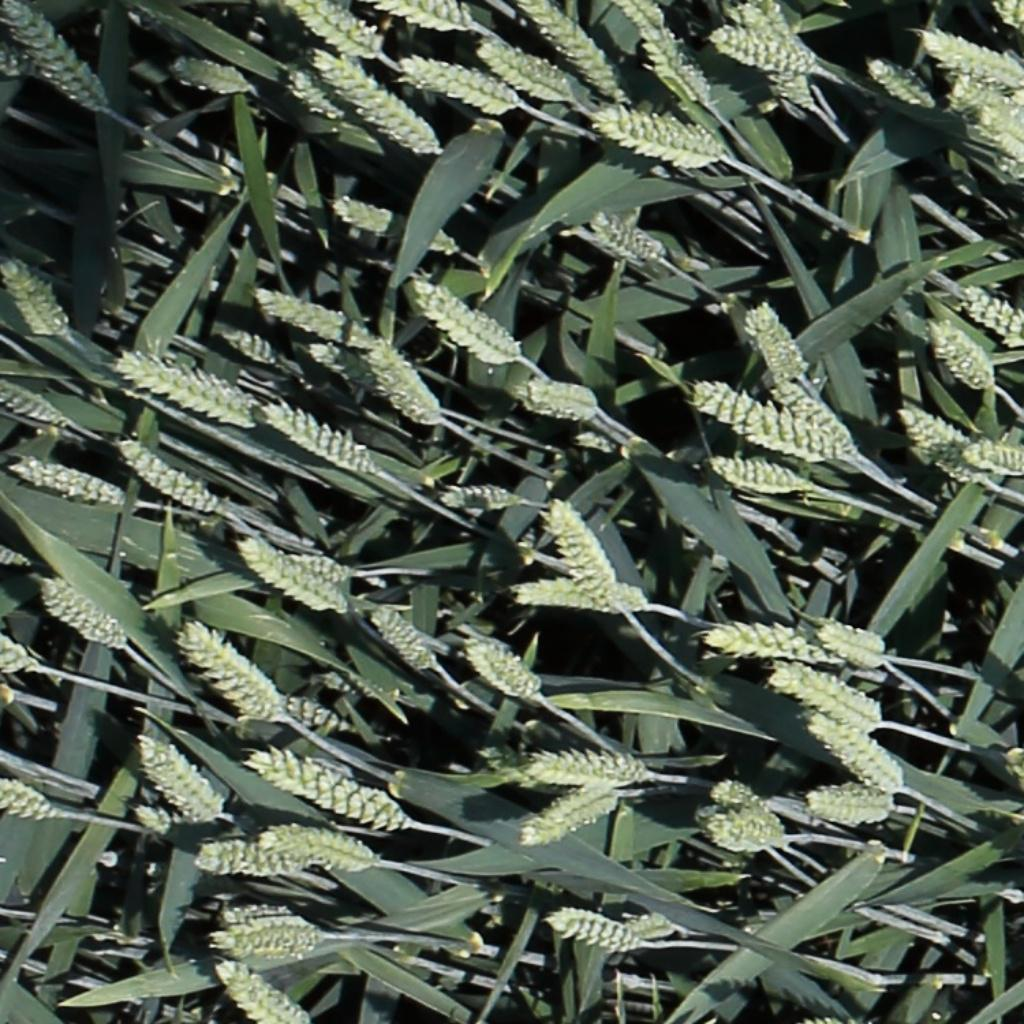0-0: (311, 49, 446, 152), (251, 746, 407, 832), (295, 336, 447, 419), (5, 0, 106, 110), (688, 382, 826, 460), (114, 354, 255, 430), (409, 279, 524, 369), (176, 622, 277, 722), (521, 0, 623, 97), (769, 657, 885, 733), (595, 107, 722, 172), (744, 2, 819, 111), (397, 54, 518, 121), (132, 734, 222, 824), (543, 496, 623, 596), (258, 405, 372, 473), (116, 441, 219, 516), (330, 197, 459, 255), (808, 716, 901, 795), (253, 286, 370, 348), (237, 542, 339, 613), (768, 375, 856, 454), (701, 617, 835, 668), (898, 405, 980, 488), (211, 959, 314, 1024), (636, 23, 712, 110), (477, 43, 576, 104), (364, 337, 436, 419), (38, 578, 121, 649), (521, 786, 617, 845), (259, 827, 380, 873), (924, 31, 1024, 86), (922, 315, 993, 391), (2, 256, 66, 338), (511, 582, 649, 619), (9, 460, 121, 505), (286, 1, 375, 57), (365, 603, 435, 674), (799, 778, 898, 828), (522, 747, 645, 787), (748, 299, 805, 383), (545, 906, 642, 953), (462, 640, 539, 699), (219, 920, 328, 961), (506, 376, 602, 422), (704, 457, 803, 499), (963, 286, 1024, 353), (705, 809, 786, 858), (709, 30, 808, 70), (194, 838, 297, 875), (587, 211, 660, 260), (864, 57, 932, 107), (948, 76, 1024, 120), (282, 65, 341, 118), (816, 623, 888, 666), (0, 378, 65, 425), (271, 694, 346, 734), (973, 106, 1024, 163), (380, 1, 468, 30), (431, 483, 516, 513), (1, 780, 58, 823), (167, 60, 248, 90), (605, 913, 673, 948), (218, 326, 278, 364), (225, 905, 300, 931), (962, 446, 1024, 475), (618, 0, 660, 32), (709, 779, 752, 806), (998, 0, 1024, 31)
